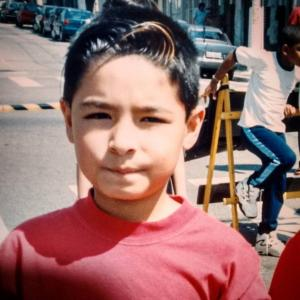Vehicle-registration-plate: (206, 52, 223, 60)
